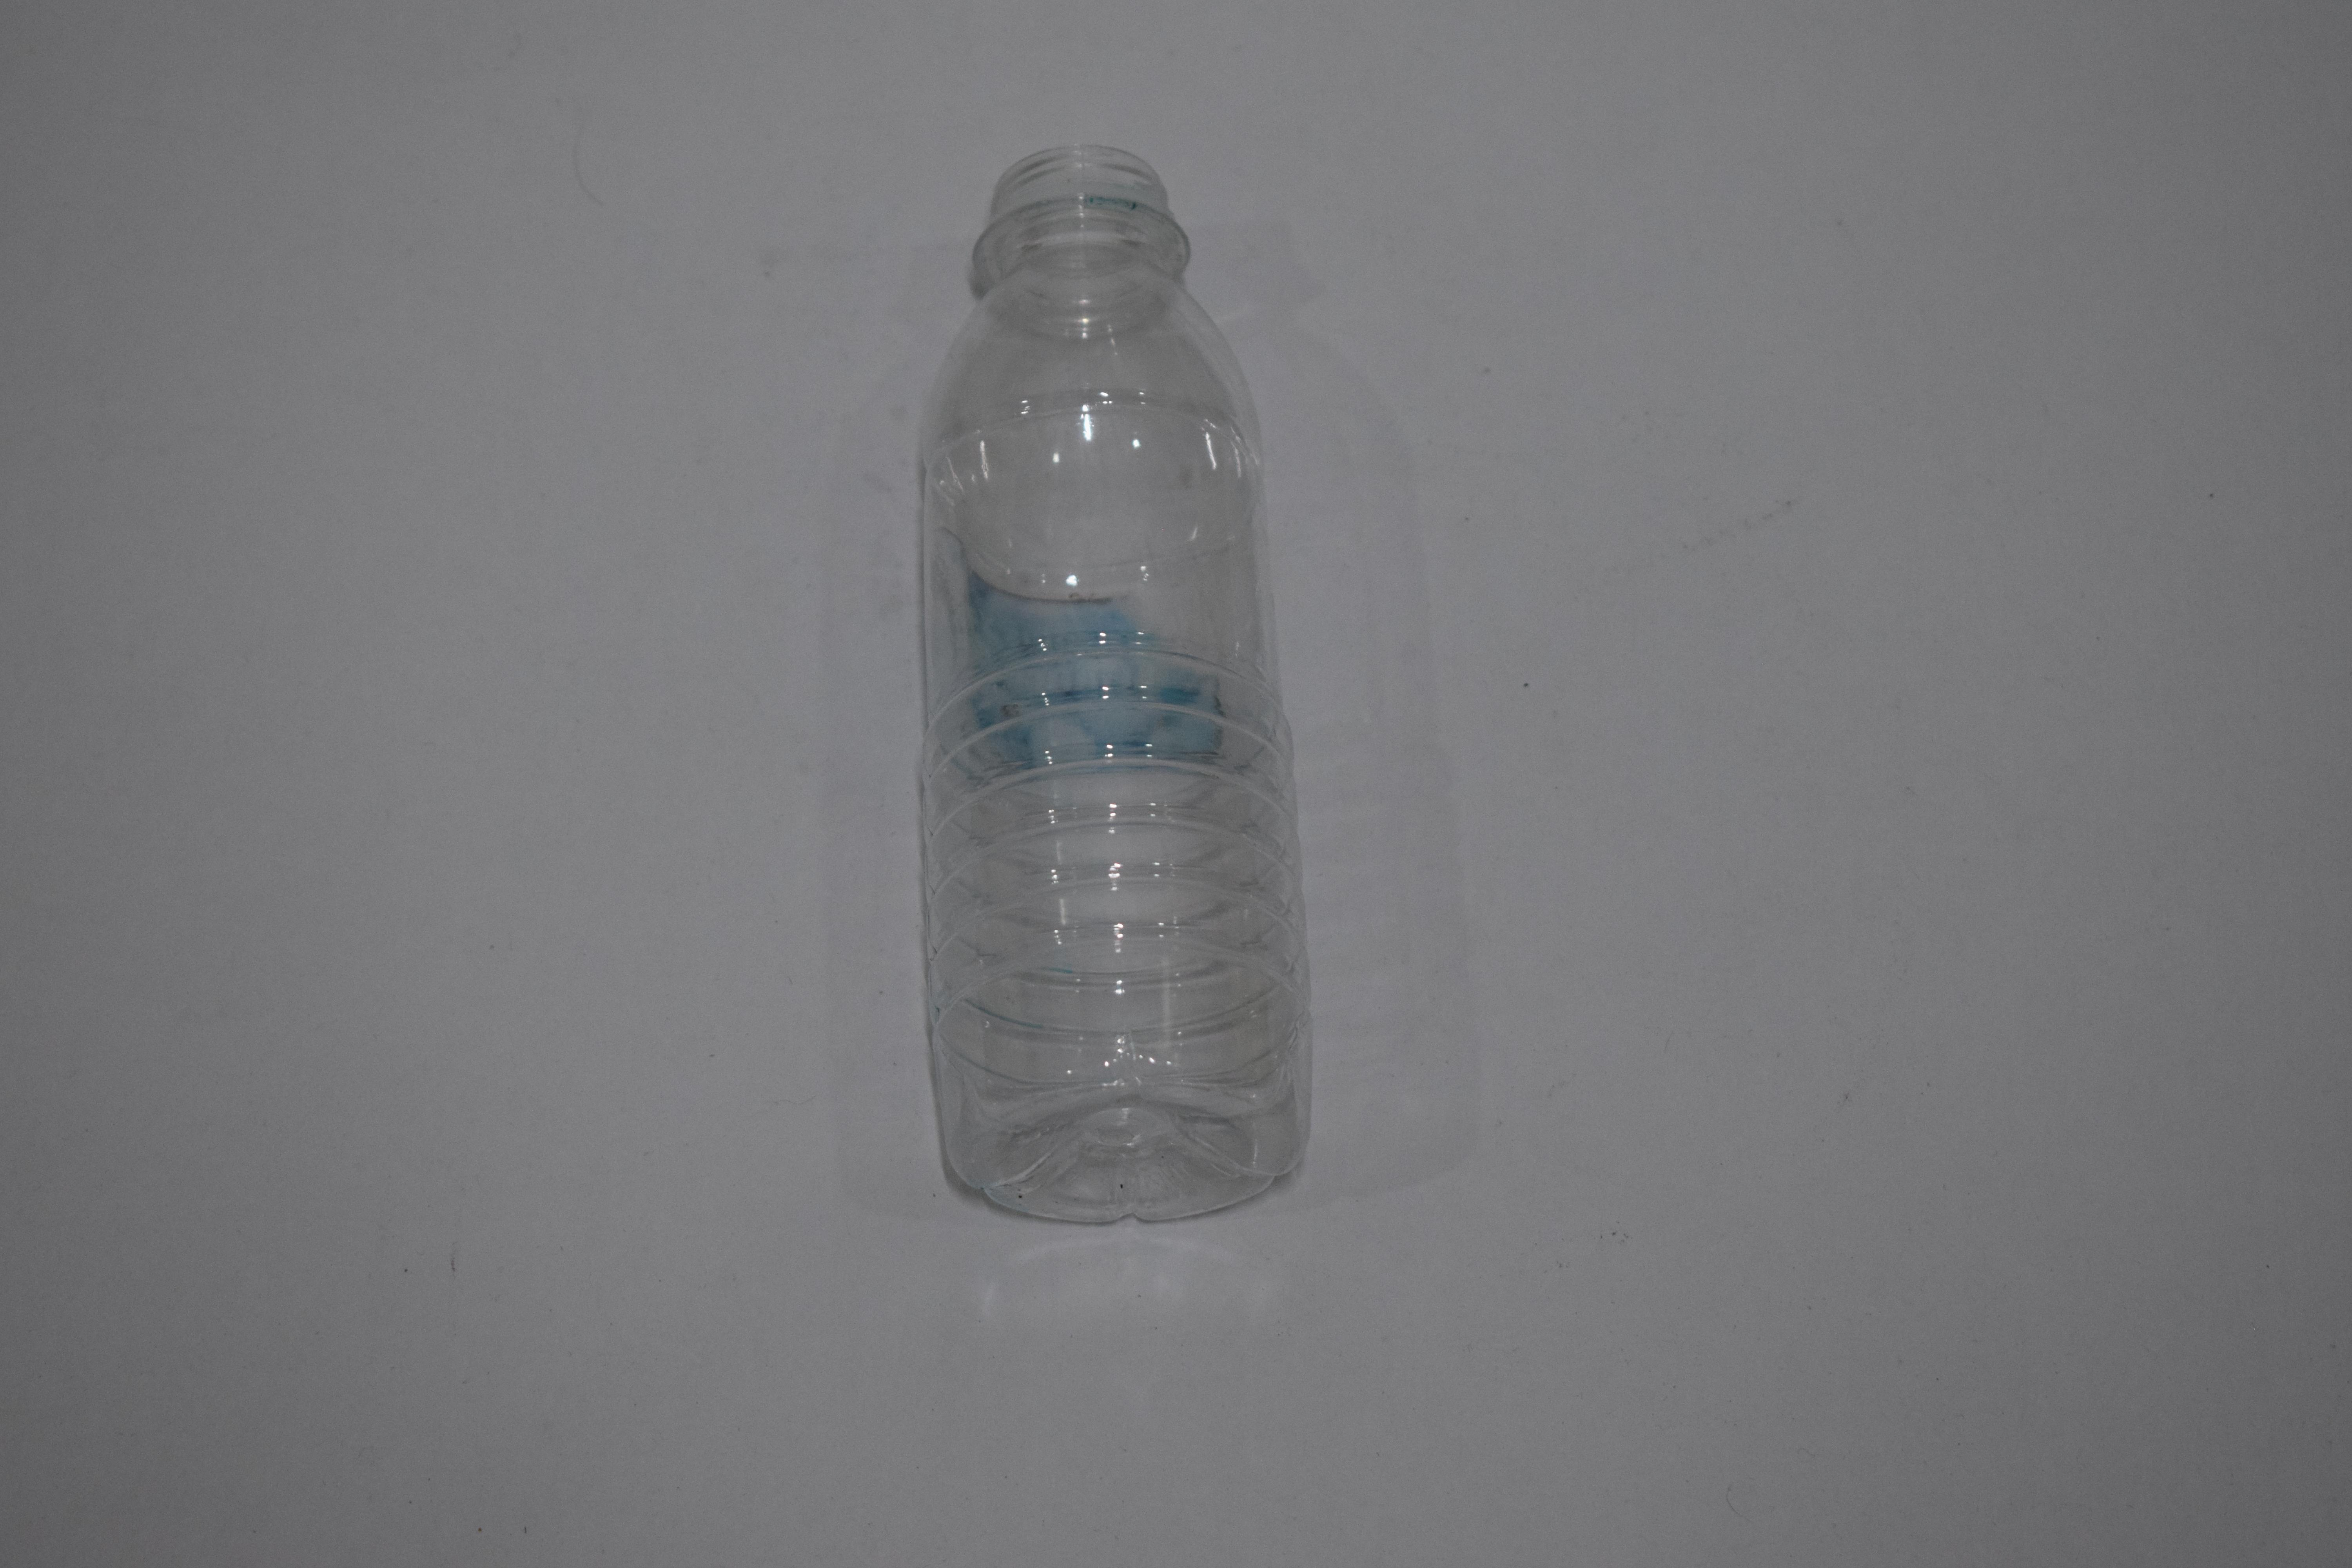bottle: (908, 133, 1312, 1234)
